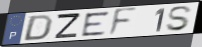1: (154, 8, 166, 33)
D: (21, 14, 55, 42)
E: (80, 10, 111, 38)
F: (107, 6, 139, 38)
S: (164, 5, 194, 33)
Z: (54, 12, 82, 39)
